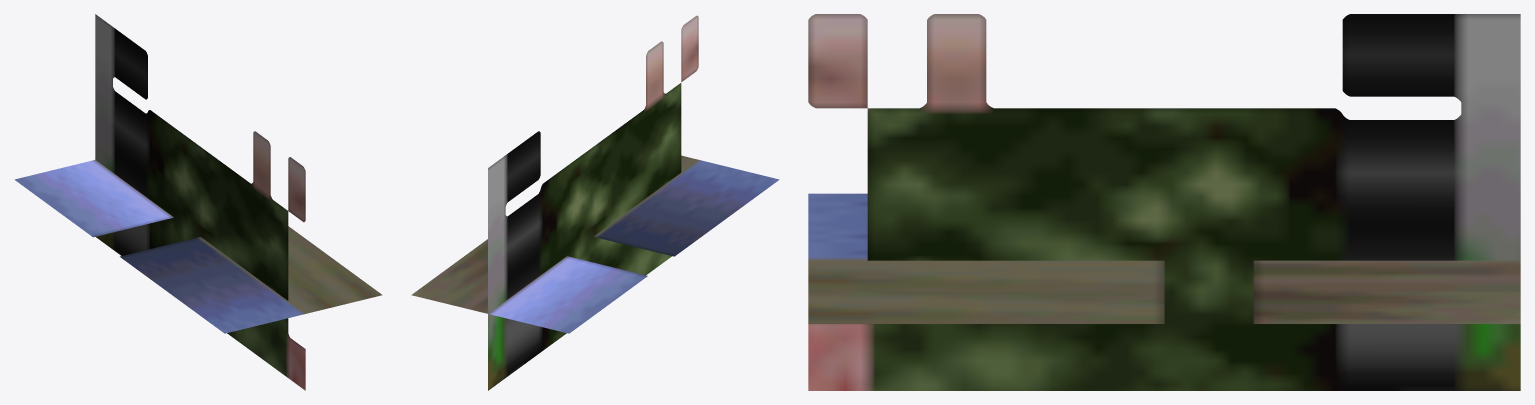
3 views of the same model, side by side, from view 1: azimuth 30°, elevation 25°; view 2: azimuth 150°, elevation 25°; view 3: azimuth 270°, elevation 25° (orthographic). The views are drawn at different scales.
Visible parts, largest first — view 1: T1L9M005_17; view 2: T1L9M005_17; view 3: T1L9M005_17.
Part boxes in pixels (bbox=[...]): T1L9M005_17: bbox=[14, 14, 382, 390]; T1L9M005_17: bbox=[411, 15, 779, 390]; T1L9M005_17: bbox=[808, 14, 1520, 390].
Bounding box in the file's own units: 0.8154 × 1.1 × 1.88.
